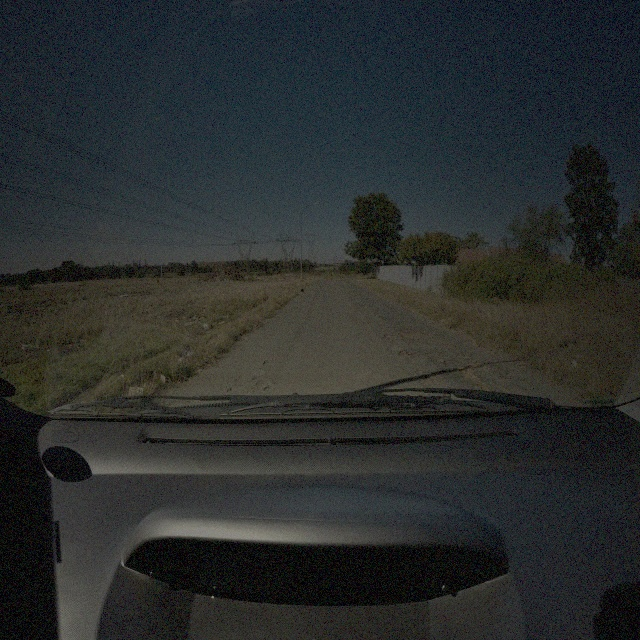pothole: (456, 361, 483, 388), (464, 354, 488, 373), (398, 327, 420, 341), (399, 347, 411, 358), (261, 356, 272, 367), (263, 381, 272, 393), (382, 333, 394, 340)
